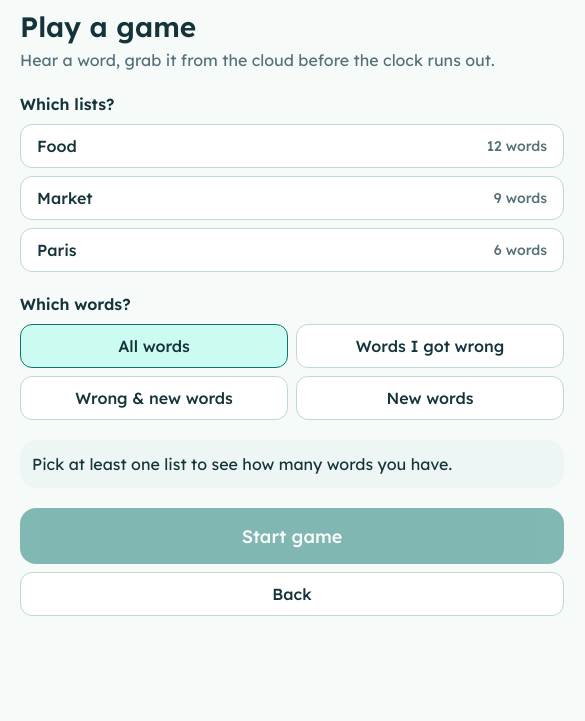
Scenario: the live pool count (008 FR-6) › recounts as lists are added and removed
Click the button "Food 12 words" at coordinates (57, 146), box [20,124,564,168]
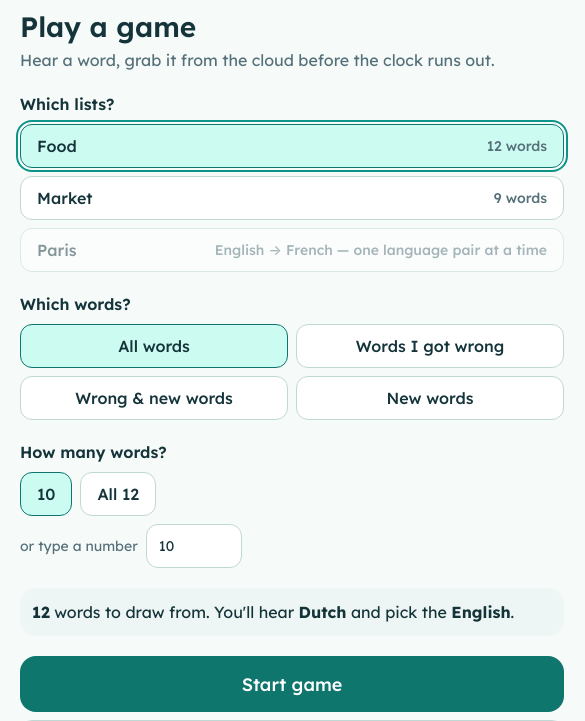
Click the button "Market 9 words" at coordinates (65, 198), box [20,176,564,220]
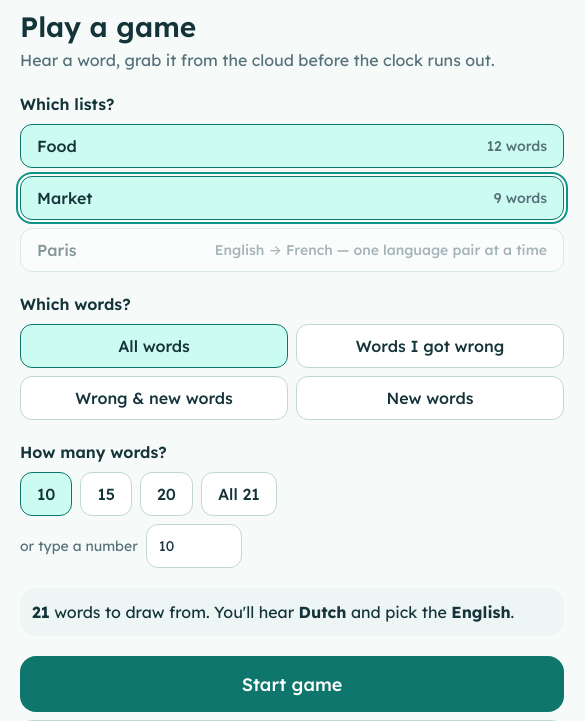
Check: the message shows "21", box [32,602,50,622]
Click the button "Market 9 words" at coordinates (65, 198), box [20,176,564,220]
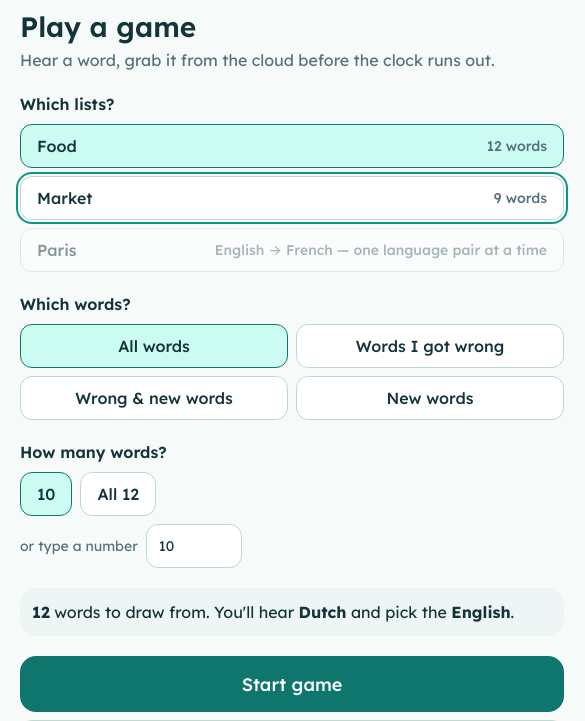
Check: the message shows "12", box [32,602,50,622]
